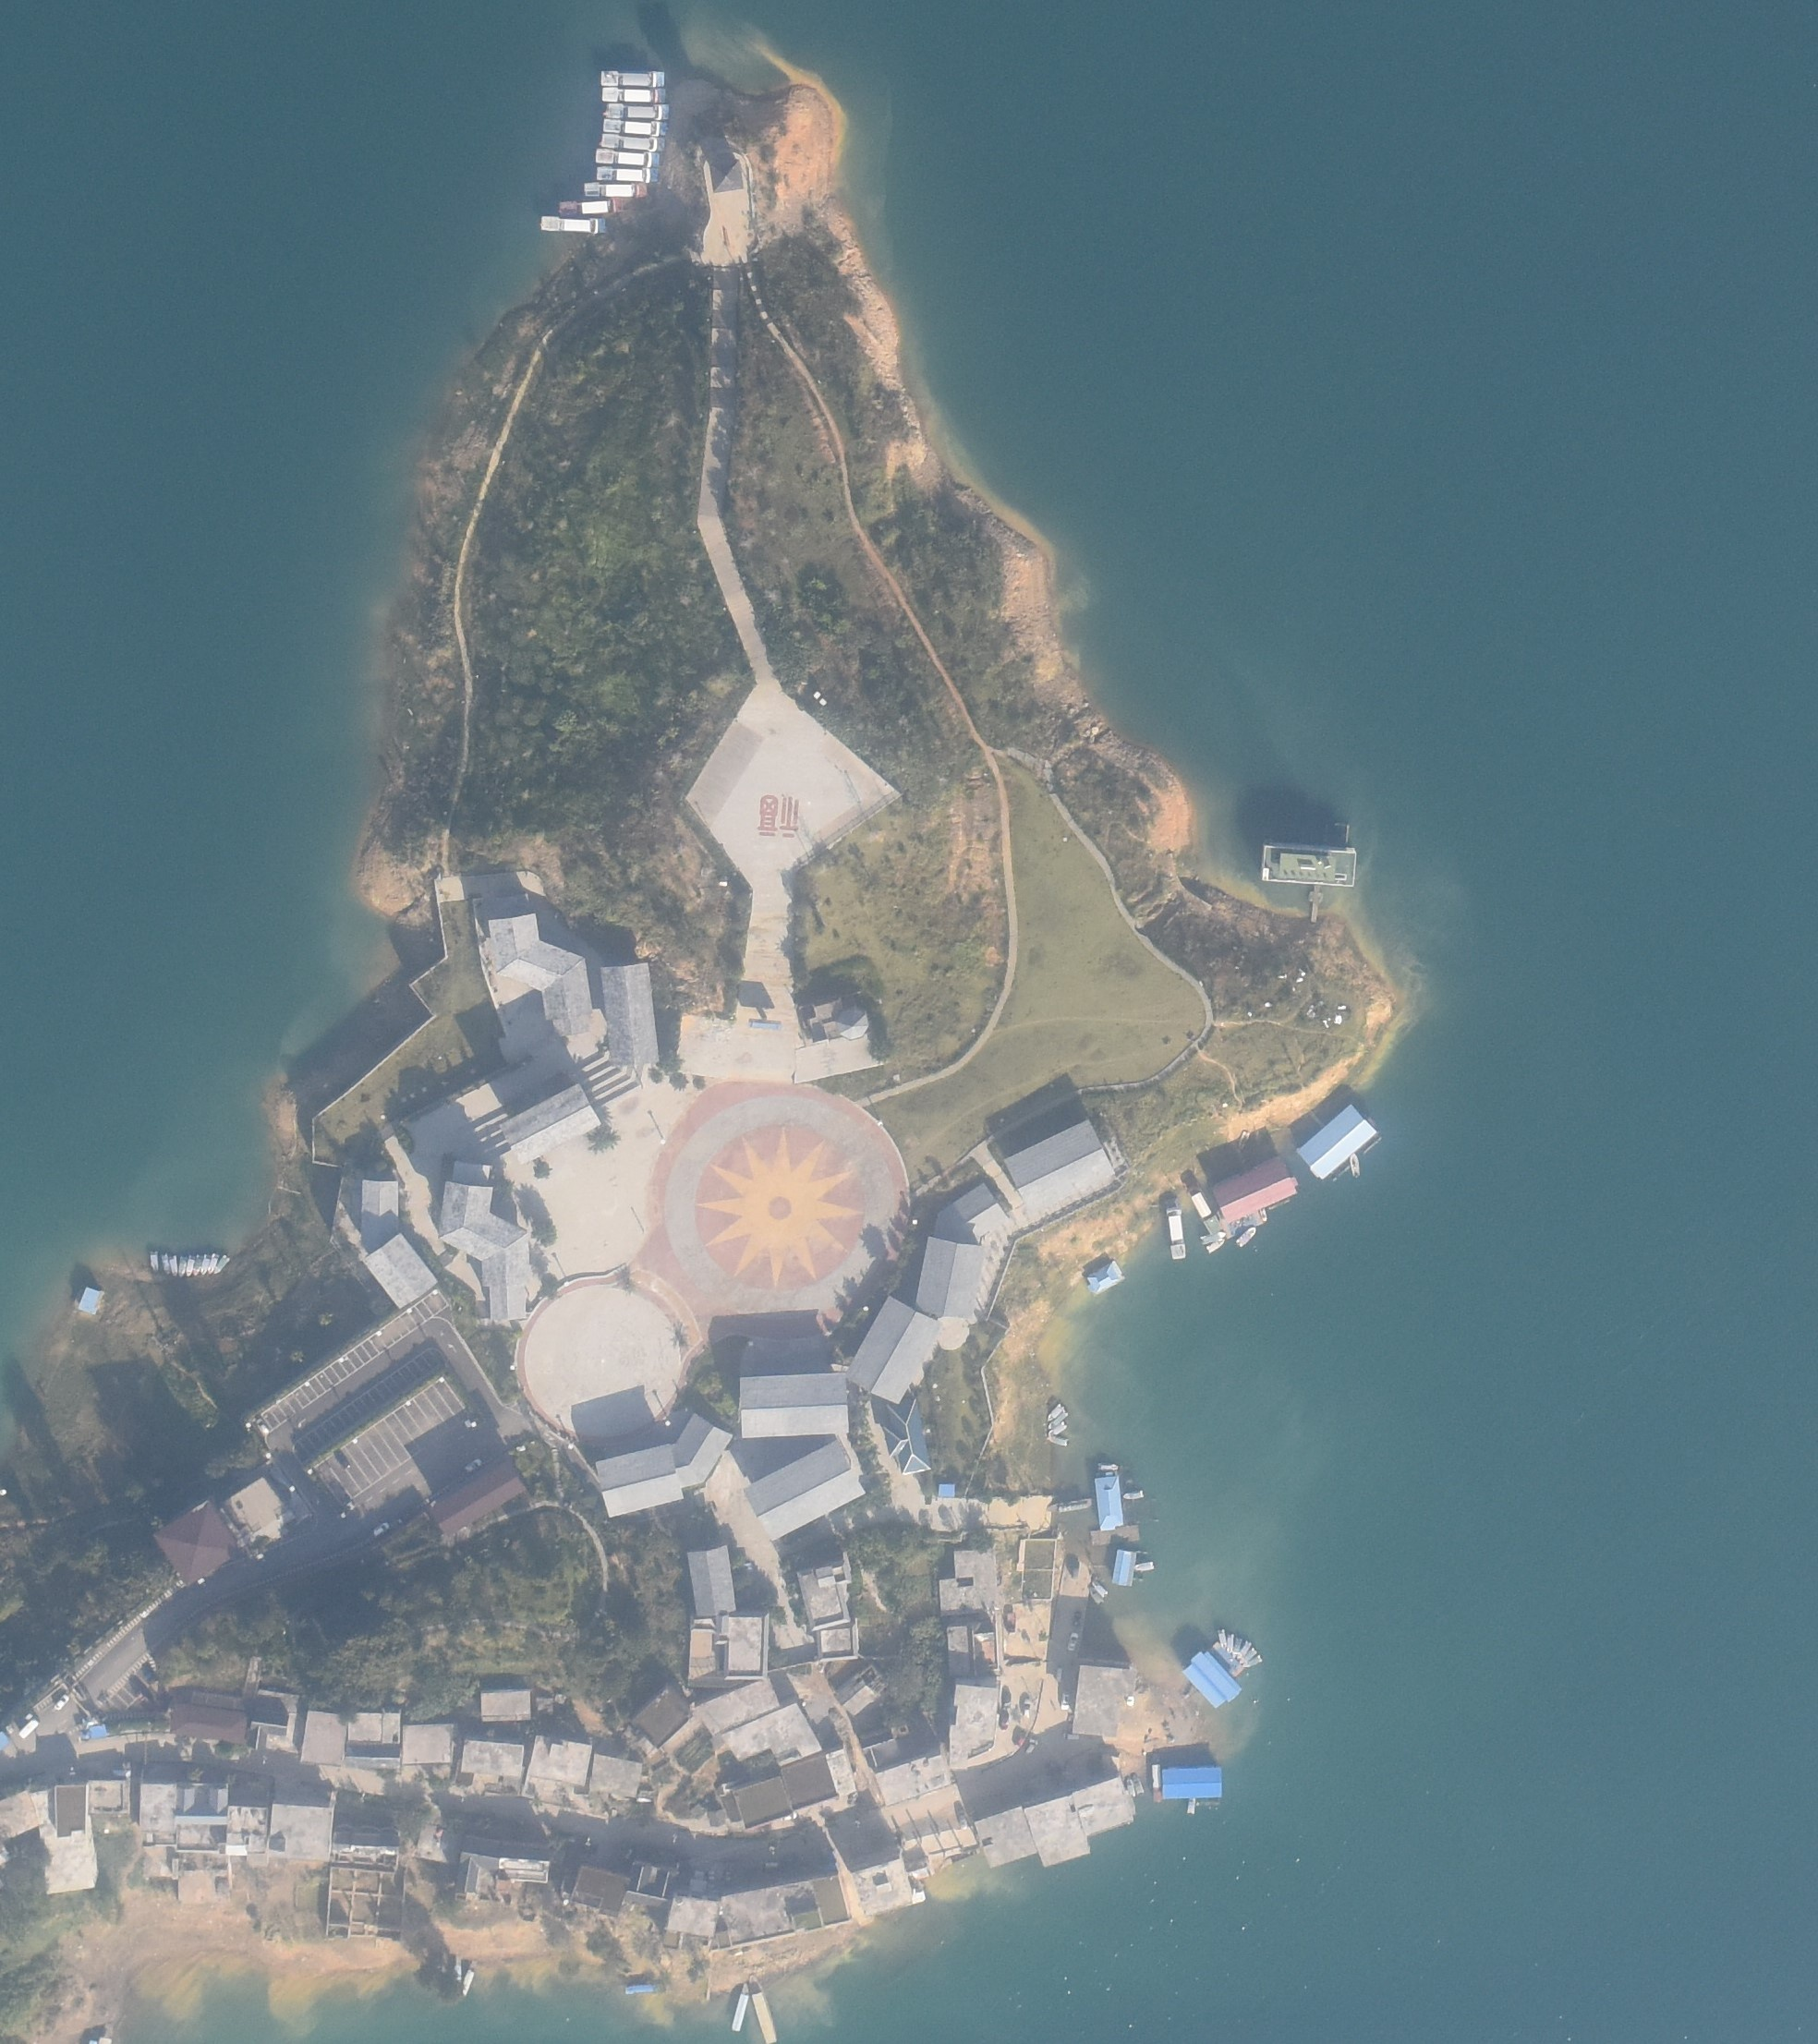building: (595, 1412, 732, 1521), (439, 1160, 528, 1321), (486, 909, 591, 1033), (916, 1183, 1007, 1321), (744, 1442, 865, 1540), (693, 1676, 823, 1763), (140, 1774, 230, 1897), (844, 1298, 942, 1405), (1000, 1119, 1116, 1209), (719, 1867, 848, 1948), (454, 1833, 563, 1912), (225, 1791, 333, 1869), (500, 1081, 600, 1163), (425, 1460, 528, 1539), (739, 1370, 851, 1440), (186, 1653, 300, 1714), (325, 1862, 407, 1944), (151, 1505, 239, 1583), (798, 1547, 858, 1658), (598, 963, 658, 1068), (686, 1616, 770, 1688), (1020, 1797, 1093, 1872), (363, 1233, 435, 1307), (626, 1676, 695, 1753), (225, 1477, 293, 1553), (851, 1847, 927, 1911), (972, 1795, 1028, 1876), (719, 1770, 793, 1830), (523, 1733, 597, 1793), (944, 1681, 998, 1762), (1267, 846, 1360, 891), (881, 1393, 932, 1476), (783, 1753, 856, 1809), (1072, 1663, 1125, 1739), (939, 1621, 1007, 1679), (934, 1551, 997, 1612), (586, 1746, 653, 1802), (876, 1751, 955, 1798), (623, 1863, 679, 1928), (462, 1740, 528, 1795), (1072, 1777, 1135, 1833), (346, 1711, 402, 1772), (174, 1704, 247, 1749), (688, 1546, 735, 1616), (663, 1895, 719, 1953), (570, 1863, 628, 1919), (361, 1176, 400, 1251), (835, 1665, 888, 1716), (2, 1790, 37, 1865), (807, 1000, 867, 1044), (398, 1721, 458, 1763), (300, 1709, 347, 1762), (414, 1823, 463, 1865), (1027, 1535, 1056, 1604), (479, 1686, 533, 1721), (855, 1732, 902, 1770), (251, 1707, 290, 1751), (86, 1779, 132, 1814), (56, 1783, 84, 1837), (532, 1693, 553, 1718)
prefabricated-house: (1295, 1102, 1374, 1179), (1211, 1158, 1299, 1219), (1183, 1647, 1242, 1709), (1160, 1769, 1225, 1800), (1093, 1472, 1123, 1533), (1086, 1260, 1125, 1295), (1113, 1547, 1134, 1588), (75, 1286, 104, 1314), (84, 1723, 105, 1739), (937, 1483, 955, 1497), (2, 1728, 9, 1751)
ship: (749, 1977, 777, 2042), (600, 130, 669, 153), (535, 214, 607, 235), (556, 200, 625, 219), (591, 149, 658, 168), (583, 181, 649, 200), (593, 165, 658, 184), (1165, 1207, 1190, 1258), (1193, 1191, 1221, 1235), (604, 114, 667, 133), (607, 104, 667, 121), (728, 1981, 749, 2030), (600, 86, 665, 102), (600, 72, 663, 84), (621, 1981, 663, 1997), (1048, 1498, 1092, 1512), (462, 1967, 476, 2004), (1235, 1228, 1256, 1249), (1151, 1763, 1162, 1804), (1048, 1411, 1069, 1430), (1044, 1433, 1069, 1449), (1046, 1404, 1063, 1425), (451, 1955, 462, 1990), (214, 1251, 230, 1274), (1092, 1577, 1107, 1598), (1200, 1232, 1227, 1244), (1090, 1584, 1104, 1607), (1207, 1239, 1225, 1254), (1134, 1772, 1144, 1795), (1134, 1560, 1153, 1572), (1053, 1421, 1069, 1435), (1246, 1654, 1262, 1669), (1097, 1463, 1120, 1472), (1244, 1647, 1256, 1663), (1351, 1156, 1360, 1177), (1239, 1132, 1249, 1149), (1232, 1637, 1241, 1658), (151, 1251, 160, 1272), (202, 1251, 209, 1277), (207, 1251, 214, 1277), (1242, 1639, 1249, 1663), (177, 1253, 184, 1277), (186, 1253, 193, 1277), (193, 1254, 200, 1279), (1125, 1491, 1144, 1500), (1188, 1797, 1197, 1814), (1127, 1776, 1134, 1797), (1220, 1630, 1227, 1649), (163, 1253, 168, 1277), (170, 1254, 175, 1277), (1228, 1633, 1234, 1651)
vehicle: (330, 1446, 351, 1474), (19, 1716, 39, 1739), (998, 1697, 1011, 1730), (339, 1504, 356, 1523), (1070, 1609, 1083, 1632), (465, 1458, 481, 1476), (1006, 1614, 1018, 1635), (374, 1523, 390, 1539), (254, 1418, 267, 1437), (1027, 1739, 1039, 1756), (1023, 1697, 1032, 1719), (56, 1691, 67, 1709), (1070, 1563, 1081, 1579), (1062, 1691, 1069, 1712), (1016, 1733, 1025, 1749), (1055, 1665, 1062, 1684), (1070, 1633, 1077, 1651), (1127, 1693, 1134, 1707)
well: (556, 1693, 567, 1705)
